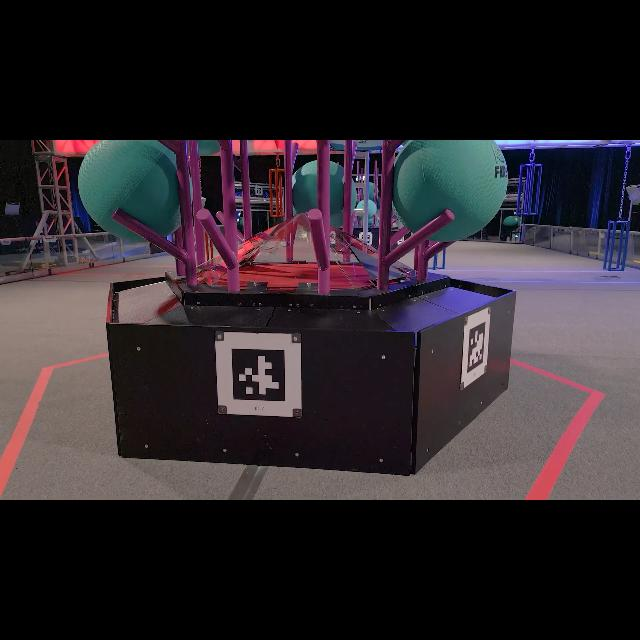ALGAE: (392, 140, 508, 242), (76, 140, 184, 242), (290, 159, 352, 229), (356, 181, 379, 207), (354, 198, 376, 220)
